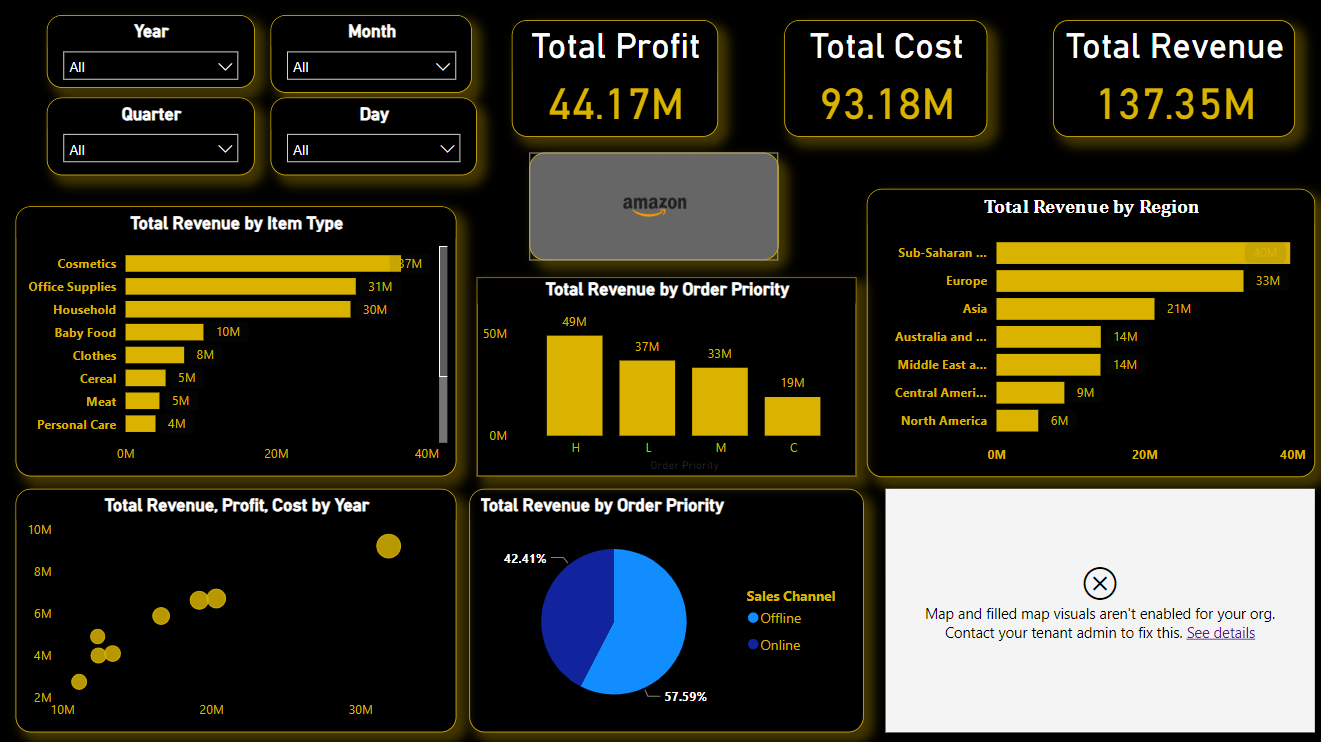

Layout of this report page (visuals, bound fields, positions):
{"tool":"powerbi","page":{"name":"Page 1","canvas":[1280,720],"ordinal":0},"visuals":[{"type":"pieChart","title":" Total Revenue by Order Priority","fields":{"Y":["Sum(Amazon Sales data.Total Revenue)"],"Category":["Amazon Sales data.Sales Channel"]},"box":[454.5,471.8,380.9,235.2],"z":0},{"type":"image","box":[512.2,147.2,240.9,103.9],"z":1000},{"type":"barChart","title":"Total Revenue by Item Type","fields":{"Y":["Sum(Amazon Sales data.Total Revenue)"],"Category":["Amazon Sales data.Item Type"]},"box":[17.3,199.1,425.6,261.1],"z":2000},{"type":"barChart","title":"Total Revenue by Region","fields":{"Y":["Sum(Amazon Sales data.Total Revenue)"],"Category":["Amazon Sales data.Region"]},"box":[838.2,181.8,432.8,278.5],"z":3000},{"type":"scatterChart","title":"Total Revenue, Profit, Cost by Year","fields":{"X":["Sum(Amazon Sales data.Total Revenue)"],"Y":["Sum(Amazon Sales data.Total Profit)"],"Size":["Sum(Amazon Sales data.Total Cost)"],"Category":["Amazon Sales data.Order Date.Variation.Date Hierarchy.Year"]},"box":[17.3,471.8,425.6,235.2],"z":4000},{"type":"filledMap","title":"Total Revenue by Country","fields":{"Category":["Amazon Sales data.Country"]},"box":[857,471.8,414.1,235.2],"z":5000},{"type":"slicer","title":"Year","fields":{"Values":["Amazon Sales data.Order Date.Variation.Date Hierarchy.Year"]},"box":[47.6,14.4,200.5,70.7],"z":6000},{"type":"slicer","title":"Quarter","fields":{"Values":["Amazon Sales data.Order Date.Variation.Date Hierarchy.Quarter"]},"box":[47.6,93.8,200.5,75],"z":7000},{"type":"slicer","title":"Month","fields":{"Values":["Amazon Sales data.Order Date.Variation.Date Hierarchy.Month"]},"box":[262.6,14.4,194.8,75],"z":8000},{"type":"slicer","title":"Day","fields":{"Values":["Amazon Sales data.Order Date.Variation.Date Hierarchy.Day"]},"box":[262.6,93.8,199.1,75],"z":9000},{"type":"card","title":"Total Profit","fields":{"Values":["Sum(Amazon Sales data.Total Profit)"]},"box":[496.3,18.8,199.1,112.5],"z":10000},{"type":"card","title":"Total Cost","fields":{"Values":["Sum(Amazon Sales data.Total Cost)"]},"box":[758.9,18.8,196.2,112.5],"z":11000},{"type":"card","title":"Total Revenue","fields":{"Values":["Sum(Amazon Sales data.Total Revenue)"]},"box":[1018.6,18.8,233.7,112.5],"z":12000},{"type":"columnChart","title":"Total Revenue by Order Priority","fields":{"Y":["Sum(Amazon Sales data.Total Revenue)"],"Category":["Amazon Sales data.Order Priority"]},"box":[461.7,268.4,366.5,191.9],"z":12001}]}

Visuals, with their boxes in screenshot pixels (x1, y1, x2, y2), scaled from the page's 1280x720 canvas onto the 1321x742 screenshot:
" Total Revenue by Order Priority" pieChart: [469, 486, 862, 729]
image: [529, 152, 777, 259]
"Total Revenue by Item Type" barChart: [18, 205, 457, 474]
"Total Revenue by Region" barChart: [865, 187, 1312, 474]
"Total Revenue, Profit, Cost by Year" scatterChart: [18, 486, 457, 729]
"Total Revenue by Country" filledMap: [884, 486, 1312, 729]
"Year" slicer: [49, 15, 256, 88]
"Quarter" slicer: [49, 97, 256, 174]
"Month" slicer: [271, 15, 472, 92]
"Day" slicer: [271, 97, 476, 174]
"Total Profit" card: [512, 19, 718, 135]
"Total Cost" card: [783, 19, 986, 135]
"Total Revenue" card: [1051, 19, 1292, 135]
"Total Revenue by Order Priority" columnChart: [476, 277, 855, 474]
